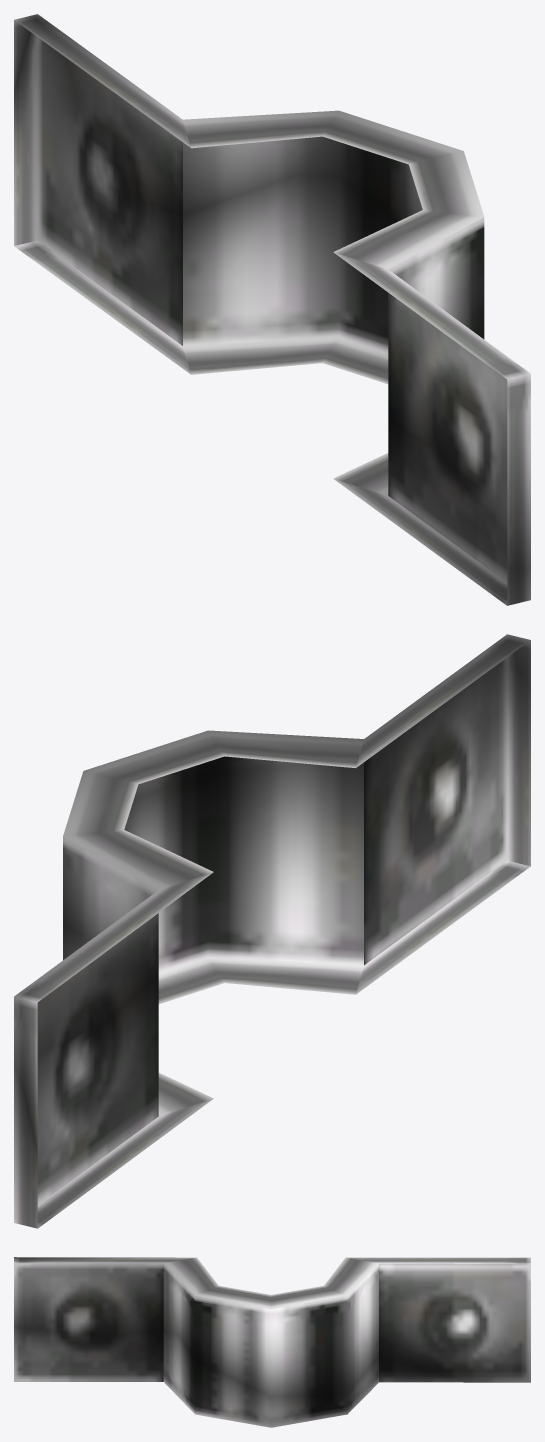
File: INST_SWORDLIGHT_MANACLEB.fbx
3 renders of one model, top to bottom at view 1: azimuth 30°, elevation 25°; view 2: azimuth 150°, elevation 25°; view 3: azimuth 270°, elevation 25°, orthographic. The views are drawn at different scales.
Parts seen in each view (by area): view 1: INST_SWORDLIGHT_MANACLEB; view 2: INST_SWORDLIGHT_MANACLEB; view 3: INST_SWORDLIGHT_MANACLEB.
Boxes of the visible parts, <box> form: INST_SWORDLIGHT_MANACLEB: <box>14,14,530,605</box>; INST_SWORDLIGHT_MANACLEB: <box>14,634,530,1228</box>; INST_SWORDLIGHT_MANACLEB: <box>14,1257,530,1427</box>.
Bounding box in the file's own units: 851 × 916 × 3597.
Materials: 1 (1 with a texture image).
